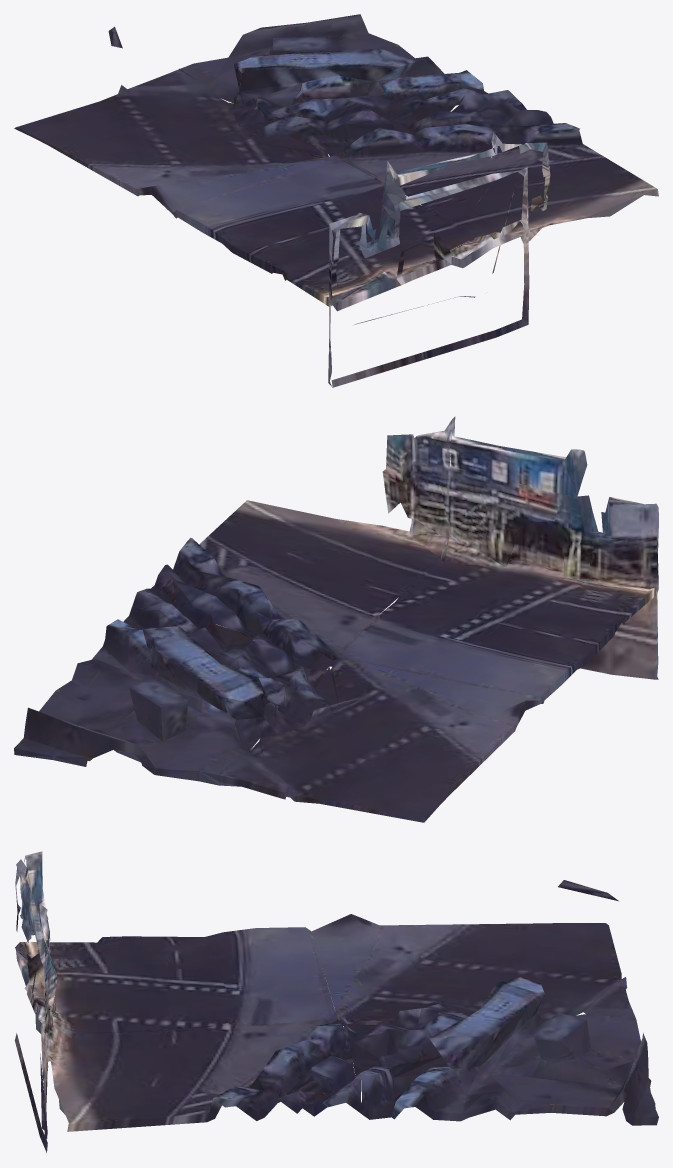
3 renders of one model, top to bottom at view 1: azimuth 30°, elevation 25°; view 2: azimuth 150°, elevation 25°; view 3: azimuth 270°, elevation 25°, orthographic. The views are drawn at different scales.
Visible parts, largest first — view 1: Mesh_0; view 2: Mesh_0; view 3: Mesh_0.
Part boxes in pixels (x1,y1,x2,y2): Mesh_0: [14, 14, 658, 387]; Mesh_0: [14, 416, 658, 822]; Mesh_0: [14, 851, 658, 1152].
Bounding box in the file's own units: 33.31 × 16.34 × 41.39.
Materials: 1 (1 with a texture image).
